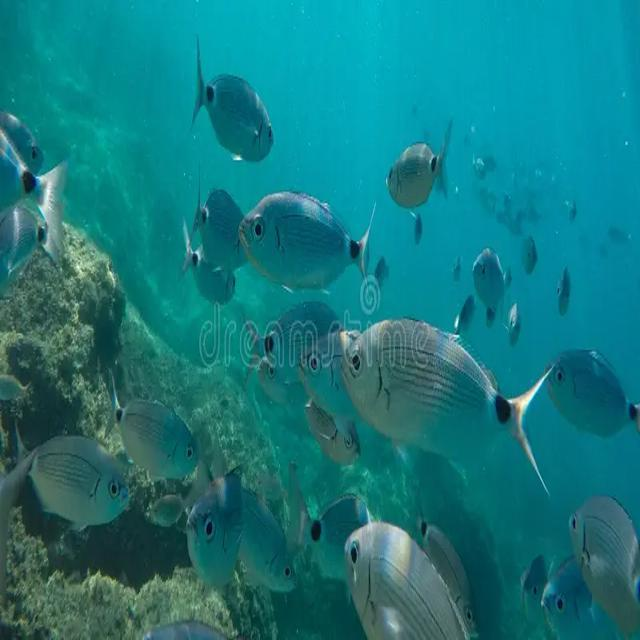fish: (341, 315, 549, 494), (341, 521, 471, 640), (11, 412, 133, 529), (238, 192, 373, 291), (106, 364, 205, 480), (565, 494, 640, 638), (195, 38, 275, 162), (258, 297, 359, 392), (215, 478, 299, 592), (540, 351, 640, 438), (0, 147, 79, 253), (293, 488, 375, 584), (419, 511, 476, 638), (187, 473, 240, 597), (195, 164, 251, 270), (541, 560, 615, 640), (385, 126, 450, 208), (181, 218, 237, 308), (469, 246, 509, 314), (0, 110, 44, 167), (135, 618, 238, 640), (523, 551, 546, 628), (141, 499, 192, 529), (454, 296, 477, 337), (517, 238, 541, 274), (554, 267, 572, 315), (405, 209, 426, 243), (371, 256, 392, 287), (508, 304, 521, 349), (470, 153, 484, 179), (453, 256, 463, 288)
